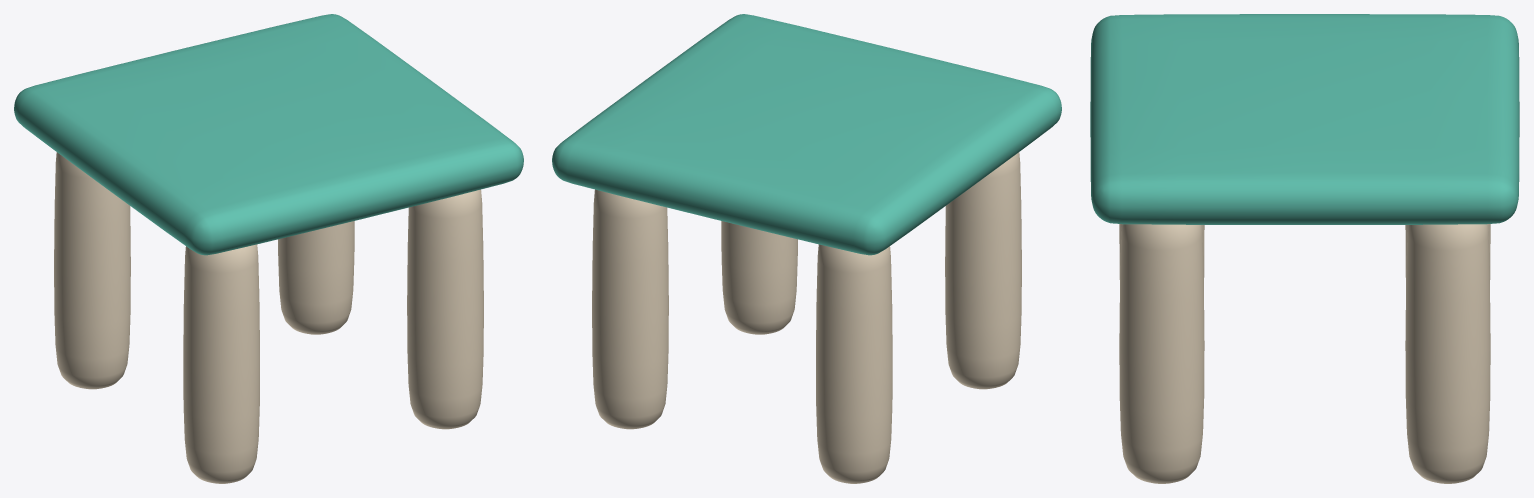
Rendered from table_a.glb.
3 renders of one model, left to right at view 1: azimuth 30°, elevation 25°; view 2: azimuth 150°, elevation 25°; view 3: azimuth 270°, elevation 25°, orthographic. The views are drawn at different scales.
Parts seen in each view (by area): view 1: body; view 2: body; view 3: body.
Boxes of the visible parts, box(x1,y1,x2,y2) form: body: box(14, 14, 523, 483); body: box(552, 14, 1061, 483); body: box(1090, 14, 1519, 483).
Size of the model in its own units: 0.9 by 0.75 by 0.9.
